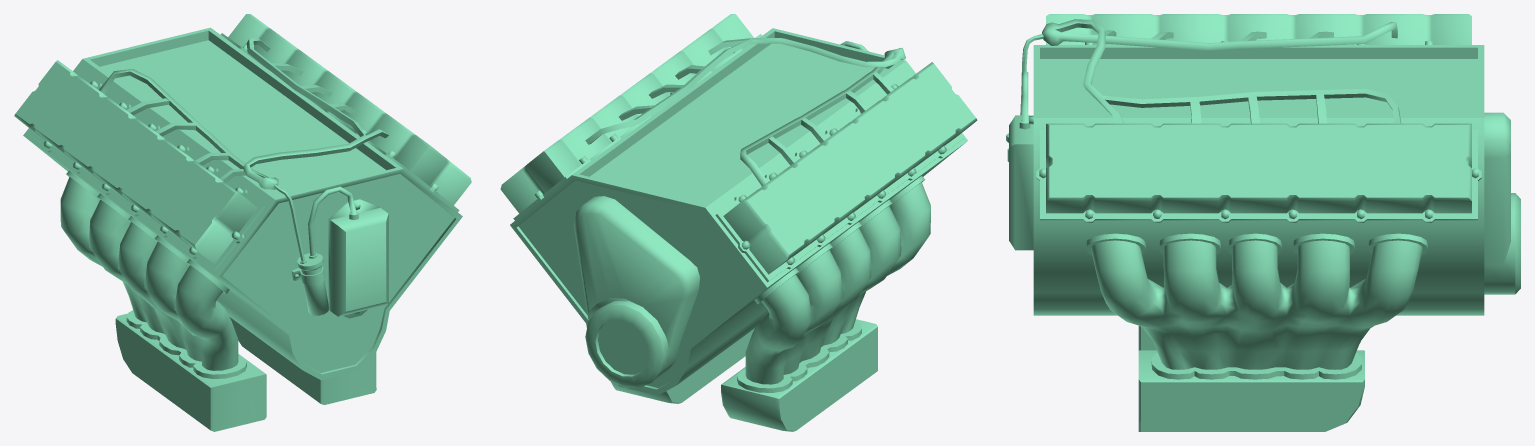
File: acf_v6med.obj
The picture shows the model from 3 angles, left to right: view 1: azimuth 30°, elevation 25°; view 2: azimuth 150°, elevation 25°; view 3: azimuth 270°, elevation 25°; orthographic projection. The views are drawn at different scales.
Visible parts, largest first — view 1: v10_ref, Exhaust; view 2: v10_ref, Exhaust; view 3: v10_ref, Exhaust.
Boxes of the visible parts, x1=… form: v10_ref: x1=14, y1=14, x2=471, y2=380; Exhaust: x1=60, y1=170, x2=376, y2=431; v10_ref: x1=500, y1=14, x2=977, y2=395; Exhaust: x1=610, y1=176, x2=930, y2=431; v10_ref: x1=1006, y1=14, x2=1520, y2=315; Exhaust: x1=1086, y1=233, x2=1427, y2=431.
Size of the model in its own units: 29.47 by 28.62 by 40.77.
